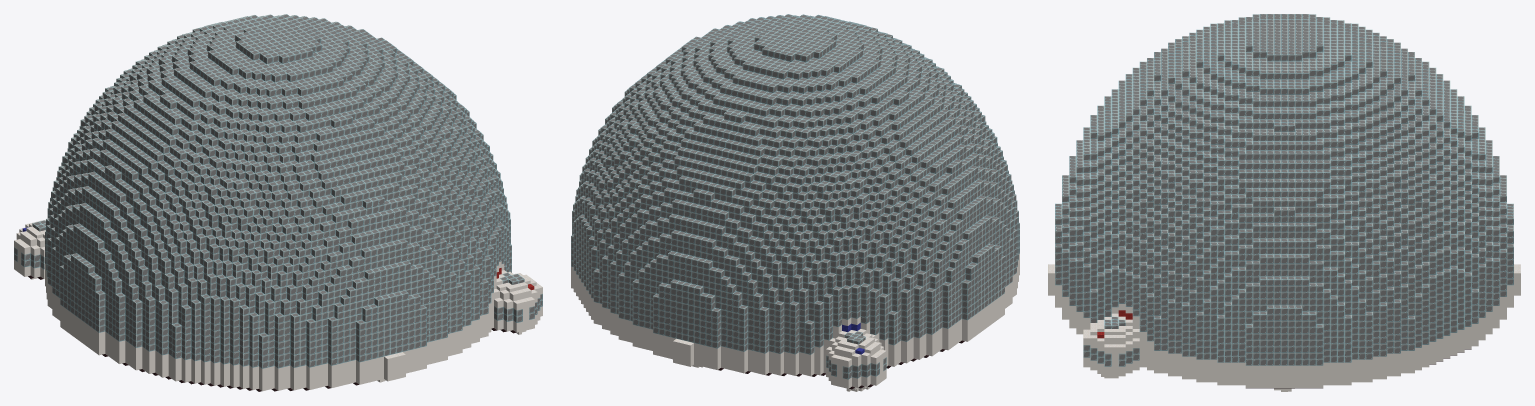
File: minecraft.obj
3 renders of one model, left to right at view 1: azimuth 30°, elevation 25°; view 2: azimuth 150°, elevation 25°; view 3: azimuth 270°, elevation 25°, orthographic. The views are drawn at different scales.
Bounding box in the file's own units: 650 × 435 × 670.
